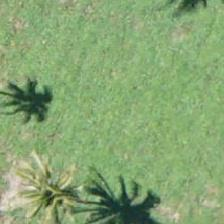coconut_tree: (2, 149, 92, 223)
